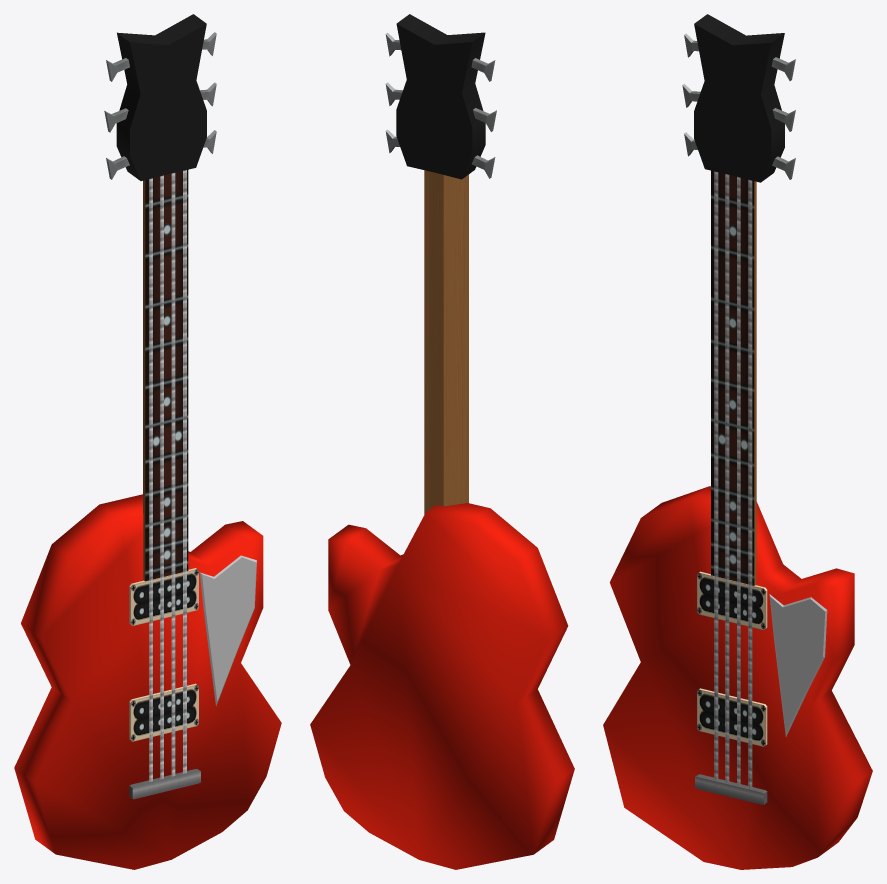
Rendered from Guitar_D.FBX.
3 renders of one model, left to right at view 1: azimuth 30°, elevation 25°; view 2: azimuth 150°, elevation 25°; view 3: azimuth 330°, elevation 25°, orthographic.
Visible parts, largest first — view 1: Guitar; view 2: Guitar; view 3: Guitar.
Boxes of the visible parts, x1,y1,x2,y2 form: Guitar: (14,14,281,869); Guitar: (310,14,574,869); Guitar: (603,14,872,869).
Size of the model in its own units: 64.57 by 208 by 10.83.
